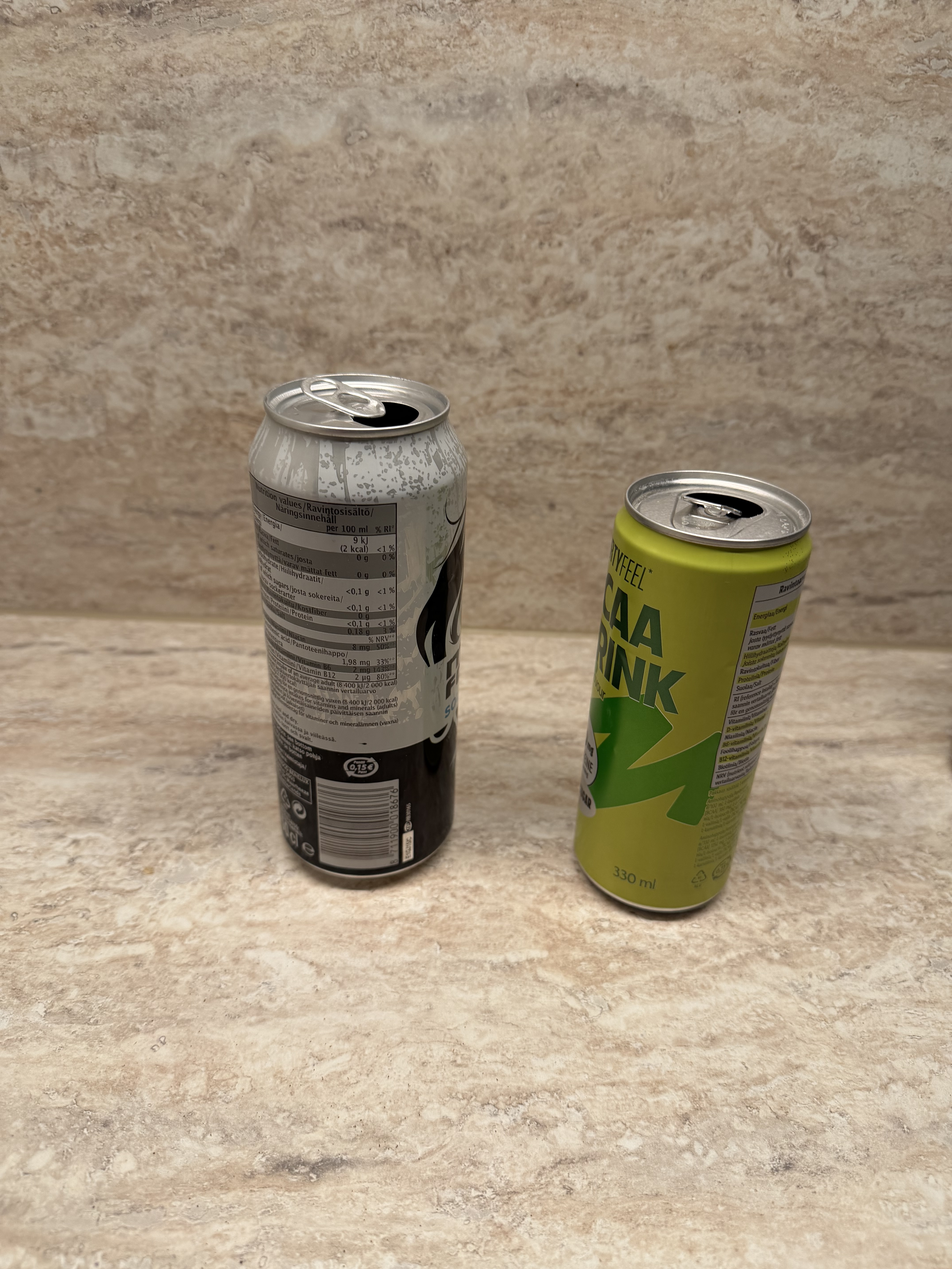Pantburk: (184, 349, 513, 920), (548, 437, 823, 931)
